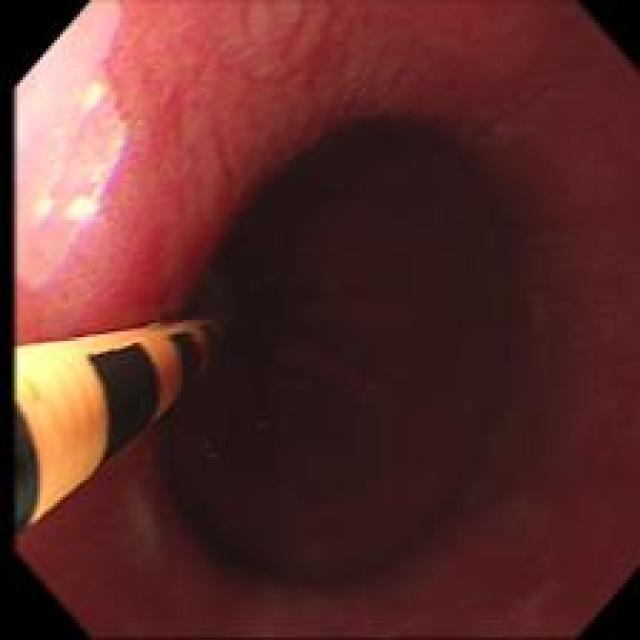contrast: (149, 109, 638, 639)
instrument: (14, 315, 241, 539)
saturation: (14, 1, 149, 321)
